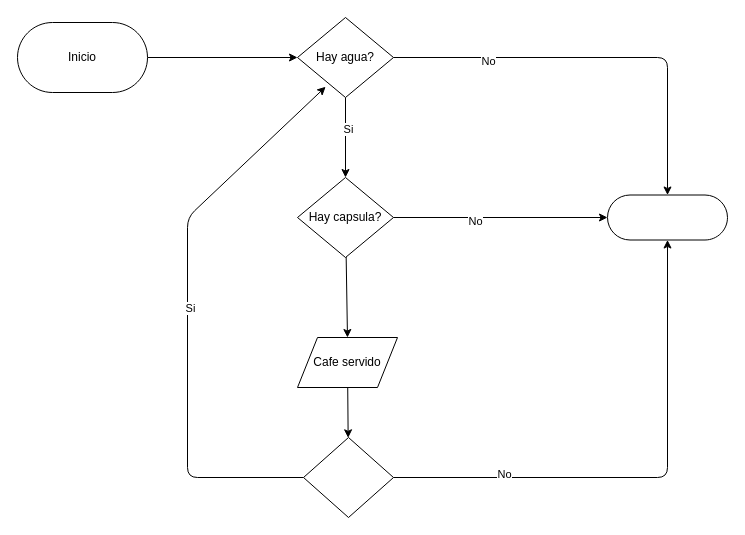
The diagram is 745 pixels wide and 535 high, and some of its shapes have lost their labels. The shapes that lost their labels are listed below. From the top down, each one's centre as x and y in pixels, then its label:
At pixel 667 217: "Detiene".
At pixel 348 477: "Desea otro?".
